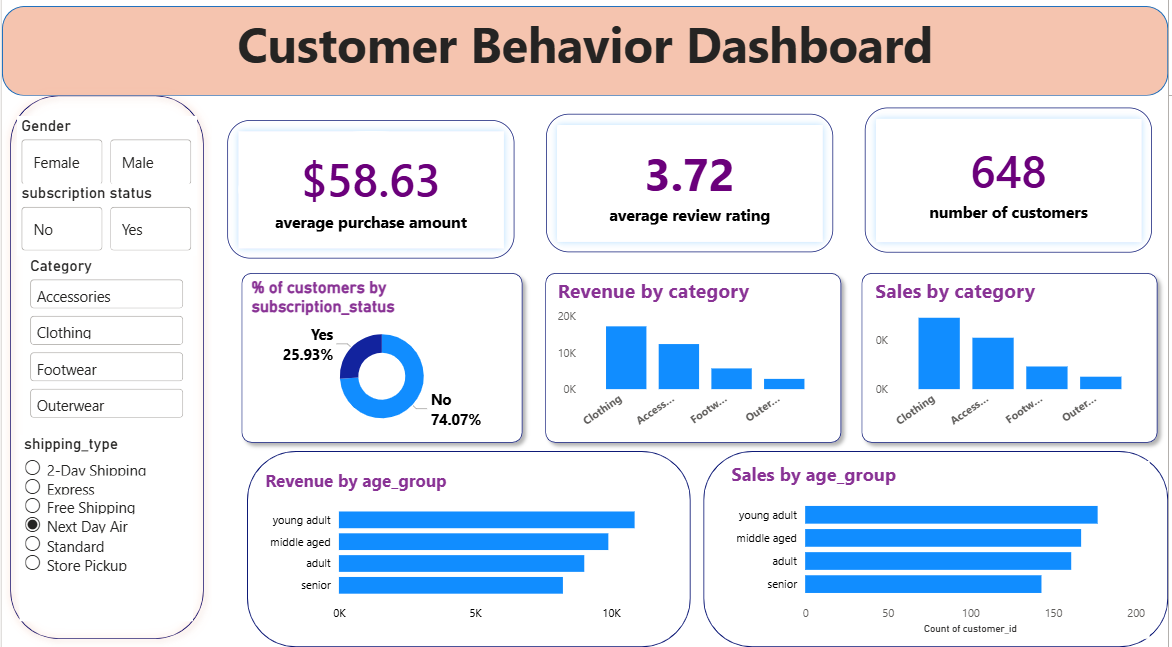

The page's visual inventory and layout, read from the dashboard file:
{"tool":"powerbi","page":{"name":"Page 1","canvas":[1280,720],"ordinal":0},"visuals":[{"type":"cardVisual","fields":{"Data":["customer_behavior customers.average purchase amount"]},"box":[230.5,124.9,349.9,186.6],"z":0},{"type":"cardVisual","fields":{"Data":["customer_behavior customers.average review rating"]},"box":[580.4,118,349.9,186.6],"z":1000},{"type":"cardVisual","fields":{"Data":["customer_behavior customers.number of customers"]},"box":[930.4,111.1,349.9,193.5],"z":2000},{"type":"shape","box":[0,16.5,1280.3,98.8],"z":3000},{"type":"textbox","box":[0,16.5,1280.3,98.8],"z":4000},{"type":"shape","box":[253.9,300.5,326.6,204.5],"z":5000},{"type":"donutChart","title":"% of customers by subscription_status","fields":{"Y":["CountNonNull(customer_behavior customers.customer_id)"],"Category":["customer_behavior customers.subscription_status"]},"box":[269,314.2,296.4,172.9],"z":6000},{"type":"shape","box":[587.3,300.5,343.1,204.5],"z":7000},{"type":"shape","box":[934.5,300.5,343.1,204.5],"z":8000},{"type":"clusteredColumnChart","title":"Revenue by category","fields":{"Category":["customer_behavior customers.category"],"Y":["Sum(customer_behavior customers.purchase_amount)"]},"box":[605.1,314.2,306,177],"z":9000},{"type":"clusteredColumnChart","title":"Sales by category","fields":{"Y":["CountNonNull(customer_behavior customers.customer_id)"],"Category":["customer_behavior customers.category"]},"box":[953.7,314.2,306,177],"z":10000},{"type":"shape","box":[0,105.7,230.5,614.8],"z":11000},{"type":"advancedSlicerVisual","fields":{"Values":["customer_behavior customers.gender"]},"box":[16.5,137.2,197.6,81],"z":12000},{"type":"advancedSlicerVisual","fields":{"Values":["customer_behavior customers.subscription_status"]},"box":[16.5,211.3,197.6,79.6],"z":13000},{"type":"advancedSlicerVisual","fields":{"Values":["customer_behavior customers.category"]},"box":[26.1,290.9,178.4,183.9],"z":14000},{"type":"listSlicer","fields":{"Values":["customer_behavior customers.shipping_type"]},"box":[19.2,487.1,190.7,204.5],"z":15000},{"type":"clusteredBarChart","title":"Revenue by age_group","fields":{"Category":["customer_behavior customers.age_group"],"Y":["Sum(customer_behavior customers.purchase_amount)"]},"box":[284,524.2,459.7,177],"z":16000},{"type":"shape","box":[269,505,487.1,215.4],"z":17000},{"type":"shape","box":[769.8,505,510.5,215.4],"z":18000},{"type":"clusteredBarChart","title":"Sales by age_group","fields":{"Category":["customer_behavior customers.age_group"],"Y":["CountNonNull(customer_behavior customers.customer_id)"]},"box":[795.9,516,463.8,194.9],"z":19000}]}

Visuals, with their boxes in screenshot pixels (x1, y1, x2, y2), scaled from the page's 1280x720 canvas onto the 1172x647 screenshot:
cardVisual - customer_behavior customers.average purchase amount: box(211, 112, 531, 280)
cardVisual - customer_behavior customers.average review rating: box(531, 106, 852, 274)
cardVisual - customer_behavior customers.number of customers: box(852, 100, 1171, 274)
shape: box(0, 15, 1171, 104)
textbox: box(0, 15, 1171, 104)
shape: box(232, 270, 532, 454)
"% of customers by subscription_status" donutChart: box(246, 282, 518, 438)
shape: box(538, 270, 852, 454)
shape: box(856, 270, 1170, 454)
"Revenue by category" clusteredColumnChart: box(554, 282, 834, 441)
"Sales by category" clusteredColumnChart: box(873, 282, 1153, 441)
shape: box(0, 95, 211, 646)
advancedSlicerVisual - customer_behavior customers.gender: box(15, 123, 196, 196)
advancedSlicerVisual - customer_behavior customers.subscription_status: box(15, 190, 196, 261)
advancedSlicerVisual - customer_behavior customers.category: box(24, 261, 187, 427)
listSlicer - customer_behavior customers.shipping_type: box(18, 438, 192, 621)
"Revenue by age_group" clusteredBarChart: box(260, 471, 681, 630)
shape: box(246, 454, 692, 646)
shape: box(705, 454, 1171, 646)
"Sales by age_group" clusteredBarChart: box(729, 464, 1153, 639)
